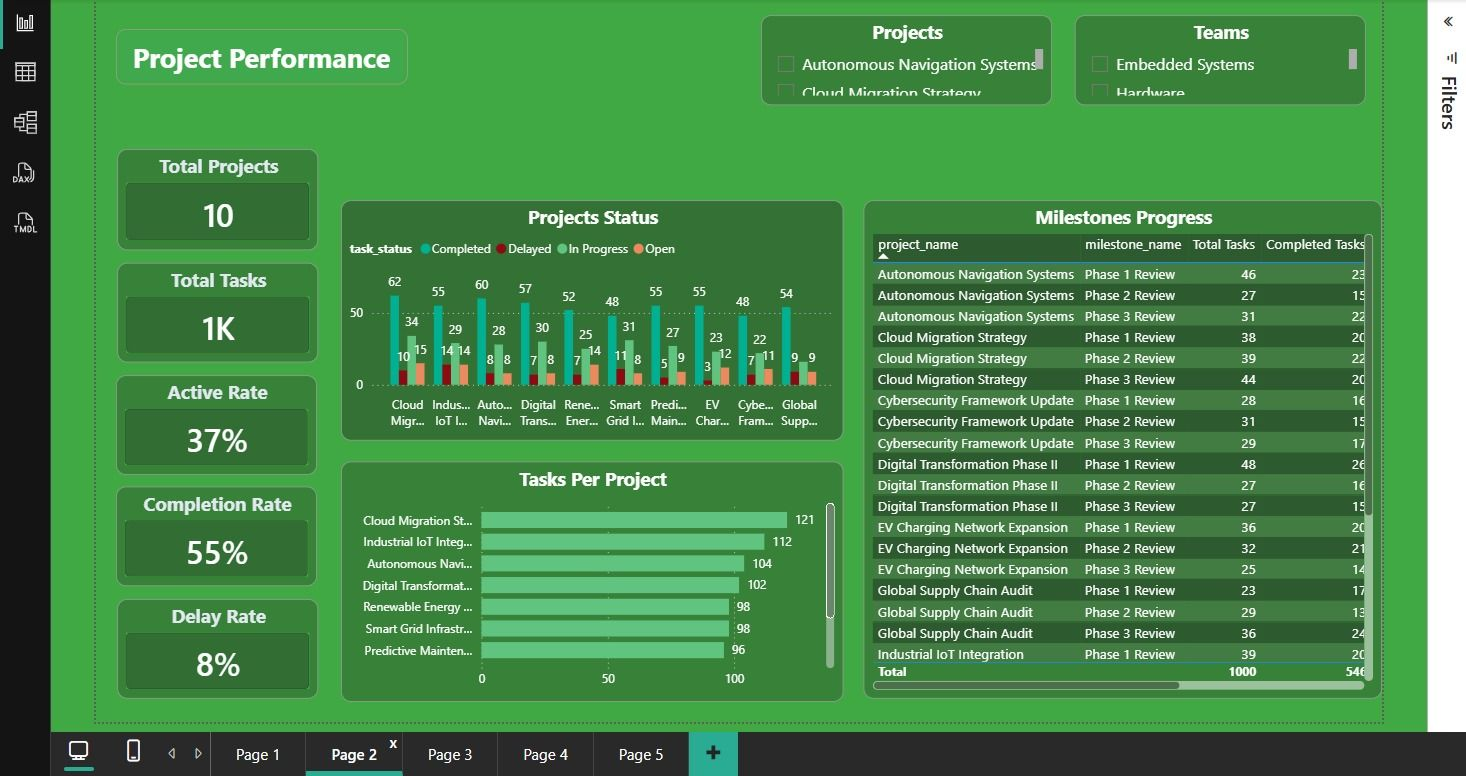

This screenshot's page, from the dashboard's own definition file:
{"tool":"powerbi","page":{"name":"Page 2","canvas":[1280,720],"ordinal":1},"visuals":[{"type":"shape","box":[20,30,290,55],"z":0},{"type":"slicer","title":"Projects","fields":{"Values":["Projects.project_name"]},"box":[661.8,16,289.8,89.6],"z":1000},{"type":"clusteredBarChart","title":"Tasks Per Project","fields":{"Category":["Projects.project_name"],"Y":["CountNonNull(Tasks.task_id)"]},"box":[243.8,460.3,500.1,238.8],"z":2000},{"type":"tableEx","title":"Milestones Progress","fields":{"Values":["Projects.project_name","Milestones.milestone_name","Tasks.Total Tasks","Tasks.Completed Tasks","Tasks.Delayed Tasks","Tasks.Active Tasks","Tasks.Completion Rate %"]},"box":[763.8,200.3,516.2,496.3],"z":3000},{"type":"clusteredColumnChart","title":"Projects Status","fields":{"Category":["Projects.project_name"],"Y":["CountNonNull(Tasks.task_id)"],"Series":["Tasks.task_status"]},"box":[243.8,200.3,500.1,238.8],"z":4000},{"type":"cardVisual","title":"Total Tasks ","fields":{"Data":["CountNonNull(Tasks.task_id)"]},"box":[21.1,262.2,200.3,99.5],"z":5000},{"type":"cardVisual","title":"Delay Rate","fields":{"Data":["Tasks.Delay Rate"]},"box":[21.1,597.1,200.3,99.5],"z":6000},{"type":"cardVisual","title":"Total Projects","fields":{"Data":["CountNonNull(Projects.project_id)"]},"box":[21.1,149.3,200.3,100.8],"z":7000},{"type":"cardVisual","title":"Active Rate","fields":{"Data":["Tasks.Active Rate"]},"box":[19.9,373.8,200.3,99.5],"z":8000},{"type":"cardVisual","title":"Completion Rate","fields":{"Data":["Tasks.Completion Rate %"]},"box":[19.9,485.5,200.3,99.5],"z":9000},{"type":"slicer","title":"Teams","fields":{"Values":["Engineers.team"]},"box":[974,16,289.8,89.6],"z":10000}]}

Visuals, with their boxes on the page's 1280x720 design canvas (x1, y1, x2, y2). These are canvas units, not pixel positions in the 1466x776 screenshot, which may show the page scaled, cropped or inside an application window:
shape: <bbox>20, 30, 310, 85</bbox>
"Projects" slicer: <bbox>662, 16, 952, 106</bbox>
"Tasks Per Project" clusteredBarChart: <bbox>244, 460, 744, 699</bbox>
"Milestones Progress" tableEx: <bbox>764, 200, 1280, 697</bbox>
"Projects Status" clusteredColumnChart: <bbox>244, 200, 744, 439</bbox>
"Total Tasks " cardVisual: <bbox>21, 262, 221, 362</bbox>
"Delay Rate" cardVisual: <bbox>21, 597, 221, 697</bbox>
"Total Projects" cardVisual: <bbox>21, 149, 221, 250</bbox>
"Active Rate" cardVisual: <bbox>20, 374, 220, 473</bbox>
"Completion Rate" cardVisual: <bbox>20, 486, 220, 585</bbox>
"Teams" slicer: <bbox>974, 16, 1264, 106</bbox>
